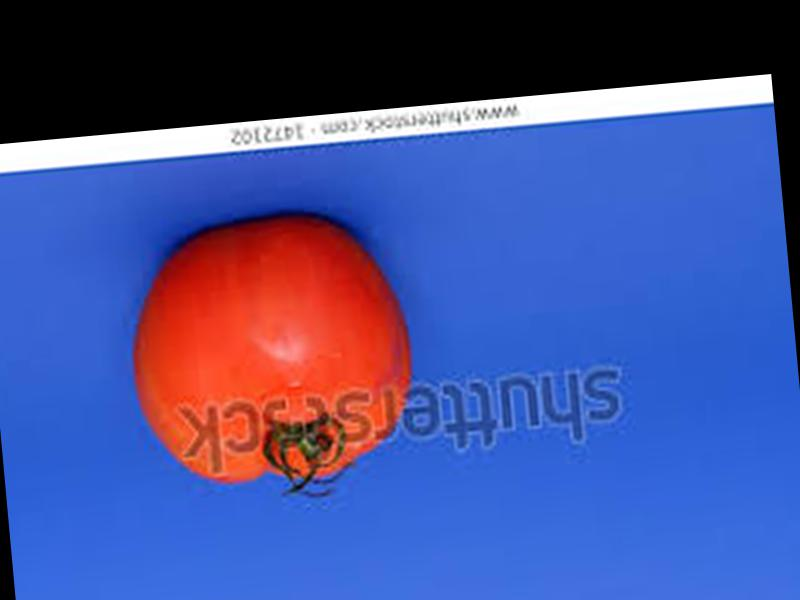Tomato: (116, 210, 417, 496)
